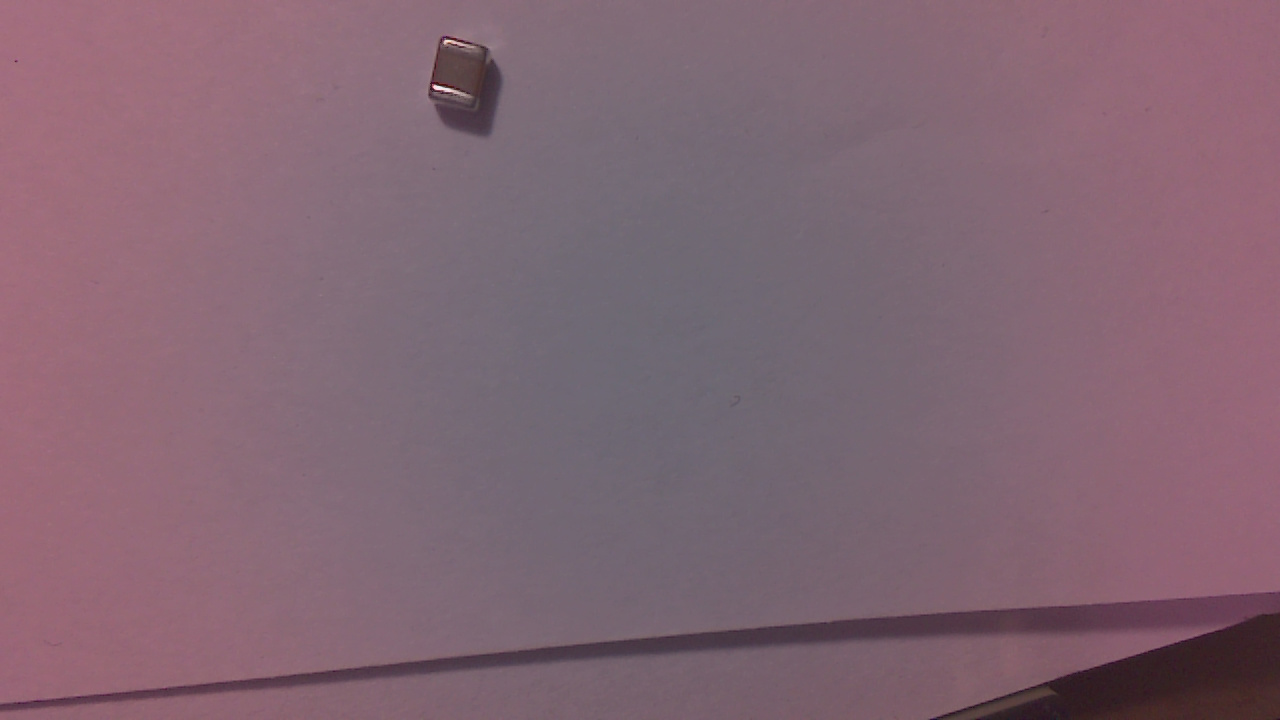Condensator: (435, 40, 499, 118)
